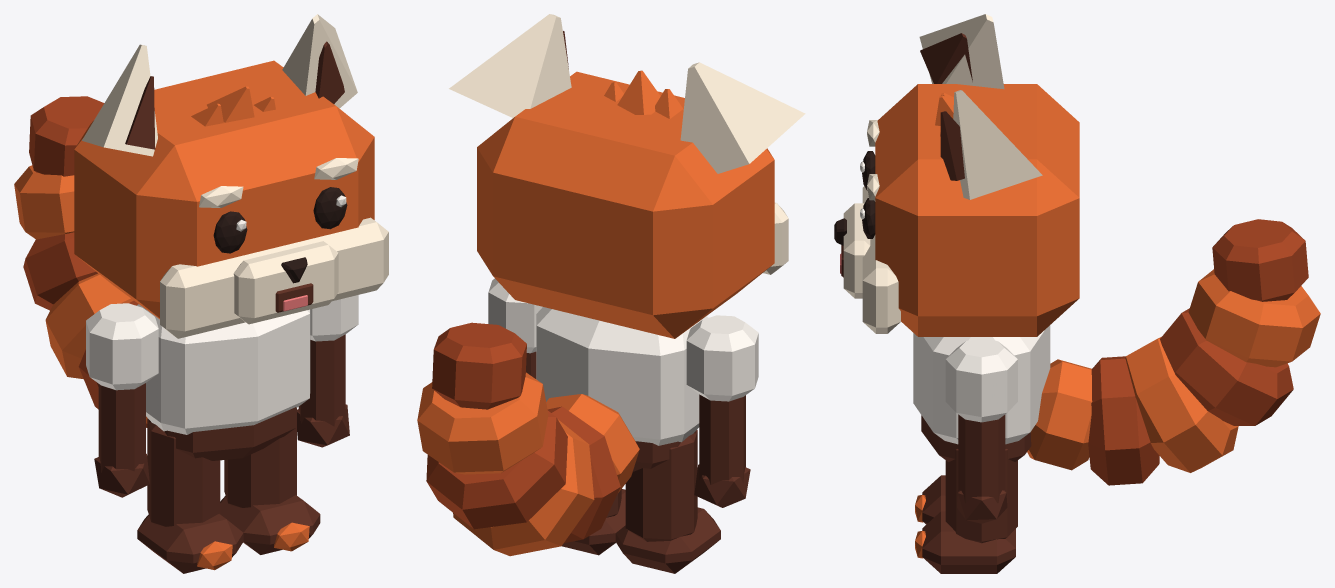
File: panda.glb
3 renders of one model, left to right at view 1: azimuth 30°, elevation 25°; view 2: azimuth 150°, elevation 25°; view 3: azimuth 270°, elevation 25°, orthographic. The views are drawn at different scales.
Parts seen in each view (by area): view 1: Panda_Head, Panda_Body, Panda_Tail, Panda_ArmR, Panda_LegR, Panda_LegL, Panda_ArmL; view 2: Panda_Head, Panda_Tail, Panda_Body, Panda_ArmR, Panda_LegR, Panda_ArmL, Panda_LegL; view 3: Panda_Head, Panda_Tail, Panda_ArmL, Panda_Body, Panda_LegL, Panda_LegR.
Part boxes in pixels (x1=…): Panda_Head: x1=74, y1=14, x2=388, y2=338; Panda_Body: x1=137, y1=304, x2=310, y2=460; Panda_Tail: x1=14, y1=96, x2=147, y2=427; Panda_ArmR: x1=86, y1=303, x2=158, y2=497; Panda_LegR: x1=137, y1=419, x2=243, y2=573; Panda_LegL: x1=220, y1=408, x2=320, y2=554; Panda_ArmL: x1=297, y1=295, x2=358, y2=447; Panda_Head: x1=449, y1=14, x2=805, y2=338; Panda_Tail: x1=417, y1=322, x2=639, y2=556; Panda_Body: x1=536, y1=307, x2=708, y2=471; Panda_ArmR: x1=686, y1=315, x2=758, y2=507; Panda_LegR: x1=615, y1=430, x2=720, y2=573; Panda_ArmL: x1=488, y1=278, x2=542, y2=378; Panda_LegL: x1=562, y1=489, x2=625, y2=555; Panda_Head: x1=834, y1=14, x2=1079, y2=336; Panda_Tail: x1=1027, y1=219, x2=1320, y2=485; Panda_ArmL: x1=945, y1=338, x2=1017, y2=523; Panda_Body: x1=913, y1=325, x2=1050, y2=461; Panda_LegL: x1=915, y1=449, x2=1017, y2=573; Panda_LegR: x1=915, y1=475, x2=945, y2=524.
Bounding box in the file's own units: 0.7699 × 1.28 × 1.14.
